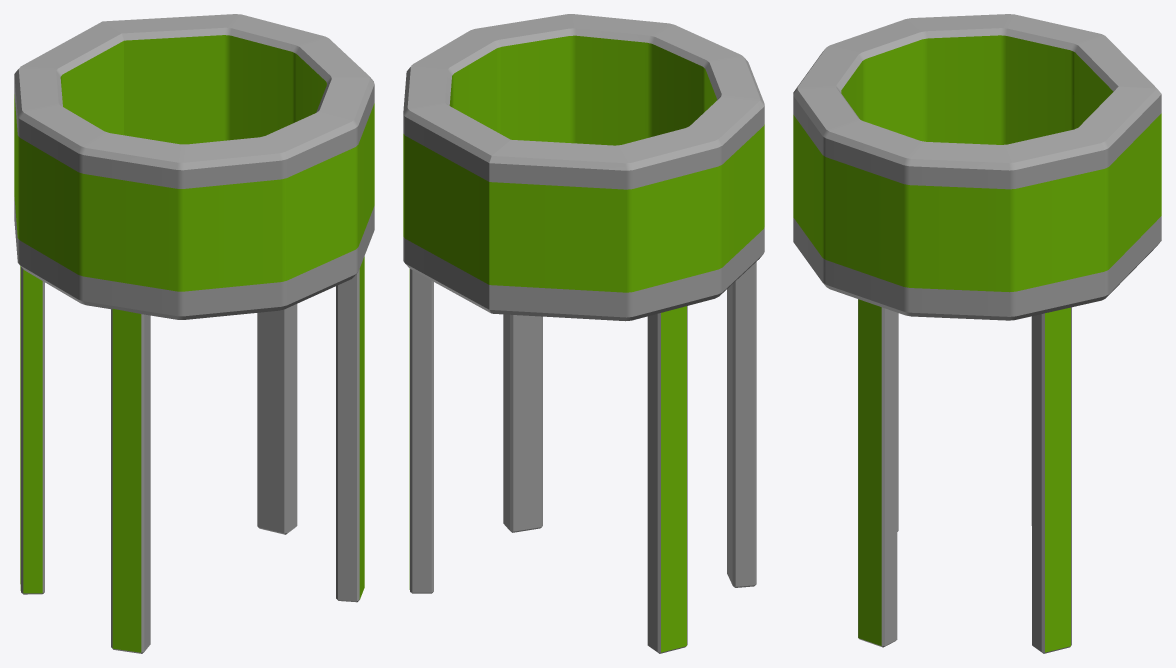
Rendered from ElevatorStatic.fbx.
The picture shows the model from 3 angles, left to right: view 1: azimuth 30°, elevation 25°; view 2: azimuth 150°, elevation 25°; view 3: azimuth 270°, elevation 25°; orthographic projection.
Parts seen in each view (by area): view 1: ElevatorStatic; view 2: ElevatorStatic; view 3: ElevatorStatic.
Part boxes in pixels (x1,y1,x2,y2): ElevatorStatic: (14,14,374,653); ElevatorStatic: (403,14,764,653); ElevatorStatic: (793,14,1161,653).
Bounding box in the file's own units: 5.15 × 7.87 × 5.25.
